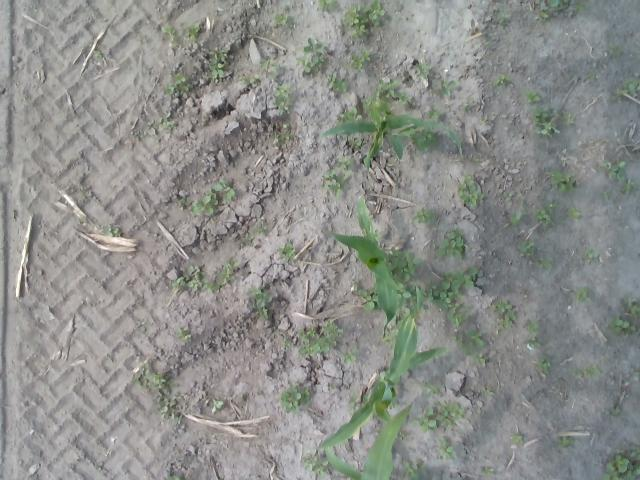Maize: (314, 278, 446, 451), (320, 98, 465, 171), (330, 197, 403, 340), (324, 401, 414, 480)
Weeds: (423, 268, 478, 326), (296, 319, 344, 356), (346, 0, 386, 38), (133, 362, 177, 391), (206, 255, 238, 292), (390, 248, 422, 282), (296, 38, 326, 73), (278, 380, 310, 412), (246, 284, 273, 320), (604, 454, 640, 480), (362, 92, 392, 122), (172, 264, 202, 293), (457, 175, 485, 205), (438, 228, 466, 258), (533, 107, 560, 138), (436, 401, 466, 427), (155, 394, 183, 420), (492, 300, 516, 329), (194, 188, 218, 216), (208, 48, 228, 78), (346, 47, 371, 70), (272, 122, 294, 148), (322, 170, 342, 198), (552, 169, 575, 192), (413, 407, 436, 430), (412, 131, 437, 152), (214, 178, 237, 200), (602, 160, 626, 180), (610, 316, 636, 334), (274, 85, 290, 114), (431, 79, 456, 96), (359, 288, 378, 310), (258, 56, 276, 78), (328, 72, 346, 94), (574, 364, 602, 377), (379, 79, 398, 98), (412, 207, 434, 223), (149, 118, 174, 131), (401, 462, 418, 480), (625, 296, 640, 316), (518, 242, 536, 258), (535, 354, 551, 372), (396, 283, 414, 299), (536, 208, 550, 228), (203, 398, 223, 412), (341, 107, 362, 120), (415, 62, 431, 79), (422, 381, 440, 396), (278, 242, 296, 257), (281, 331, 295, 350), (468, 330, 484, 346), (623, 77, 639, 92), (523, 90, 541, 103), (312, 461, 330, 474), (575, 286, 589, 302), (187, 23, 200, 40), (540, 0, 560, 11), (349, 390, 360, 410), (439, 446, 454, 460), (523, 320, 539, 333), (162, 26, 176, 40), (584, 248, 598, 262), (302, 453, 317, 466), (104, 225, 120, 237), (334, 156, 350, 168), (538, 258, 554, 270), (252, 220, 268, 232), (344, 348, 357, 362), (240, 232, 254, 245), (237, 74, 254, 84), (318, 0, 335, 10), (428, 105, 440, 119), (624, 180, 636, 194), (178, 327, 192, 339), (398, 92, 408, 108), (493, 76, 509, 86), (608, 44, 621, 56), (613, 90, 628, 100), (524, 338, 540, 347), (462, 342, 474, 354), (275, 13, 288, 24), (162, 84, 176, 94), (452, 332, 462, 346), (569, 206, 580, 218), (417, 462, 428, 474), (557, 436, 570, 446), (173, 72, 184, 83), (504, 190, 514, 202), (510, 214, 520, 226), (584, 72, 595, 82), (629, 446, 640, 456), (475, 352, 484, 364), (564, 114, 574, 124), (600, 188, 610, 198), (512, 434, 522, 444), (348, 139, 362, 146), (178, 84, 188, 93), (539, 10, 549, 19), (438, 436, 447, 446), (573, 3, 584, 11), (481, 468, 492, 476), (482, 388, 493, 396), (548, 201, 556, 211), (516, 196, 525, 204), (611, 406, 620, 414), (344, 170, 354, 177), (498, 13, 508, 20), (236, 396, 246, 403), (398, 432, 406, 440), (94, 50, 102, 57), (167, 476, 180, 480), (174, 198, 184, 203), (615, 449, 624, 454), (462, 103, 468, 108), (633, 372, 640, 376), (484, 116, 488, 122), (256, 392, 260, 396), (344, 183, 348, 186)
